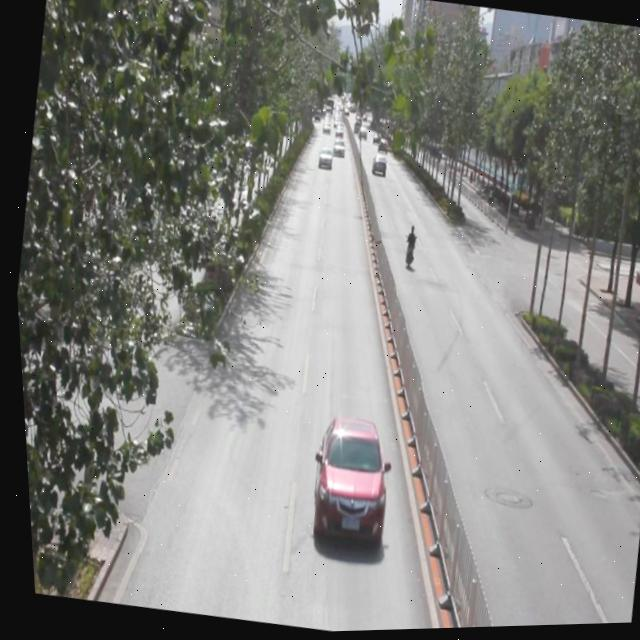car: (298, 413, 392, 548), (314, 148, 332, 172), (368, 154, 386, 177), (329, 139, 346, 159)
